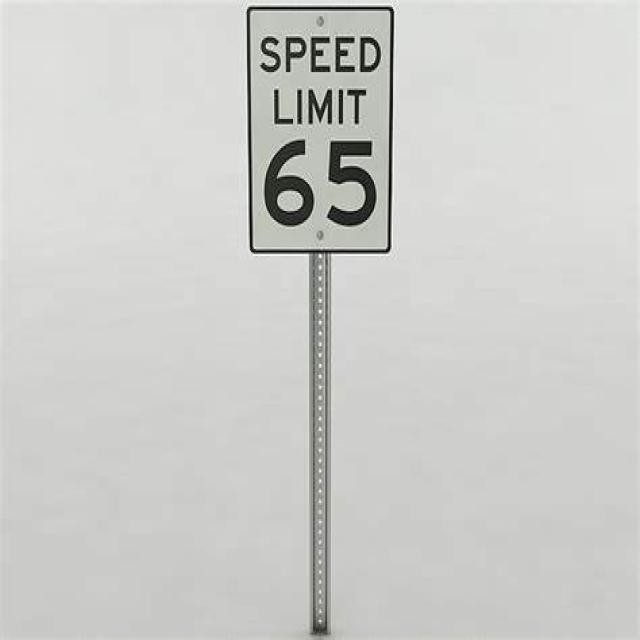speedLimit65: (244, 15, 395, 259)
